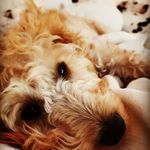puppy: (1, 19, 131, 150)
